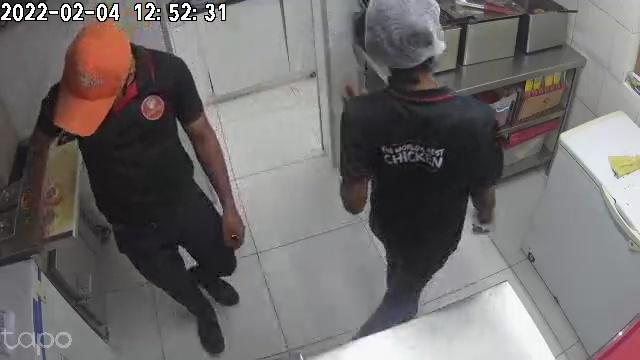no_gloves: (218, 192, 245, 249)
